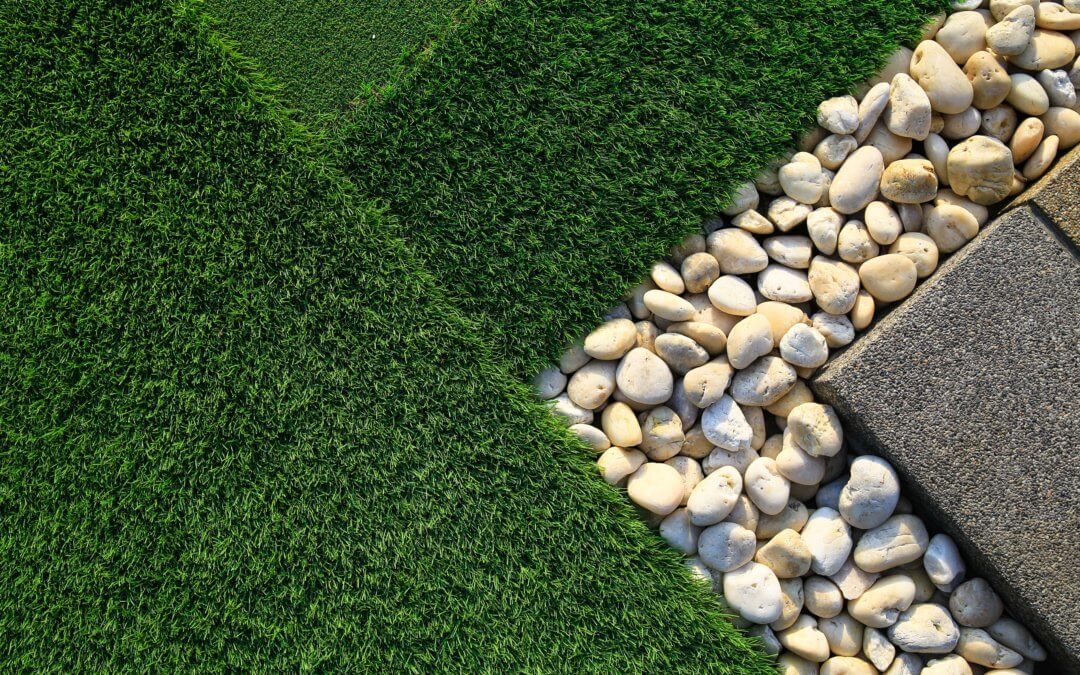grass: (6, 8, 537, 657), (537, 2, 934, 356), (542, 412, 761, 672)
rock: (549, 365, 1050, 666), (596, 125, 881, 364), (867, 8, 1068, 312)
